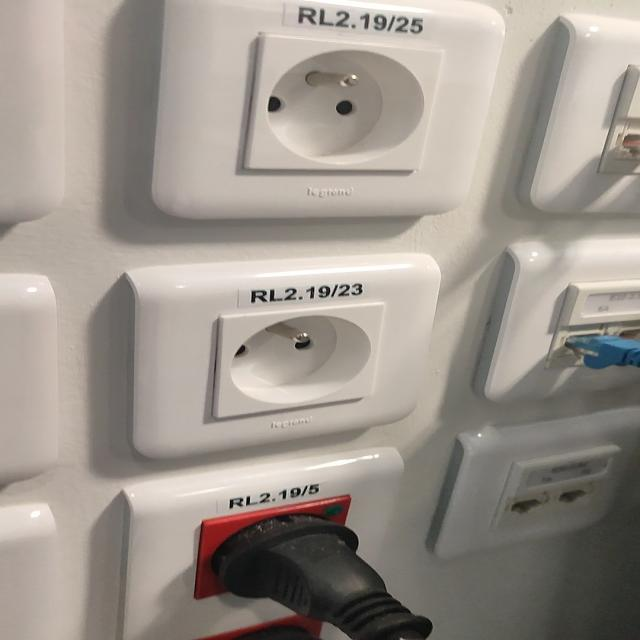house plug: (243, 33, 446, 172), (215, 303, 383, 418)
